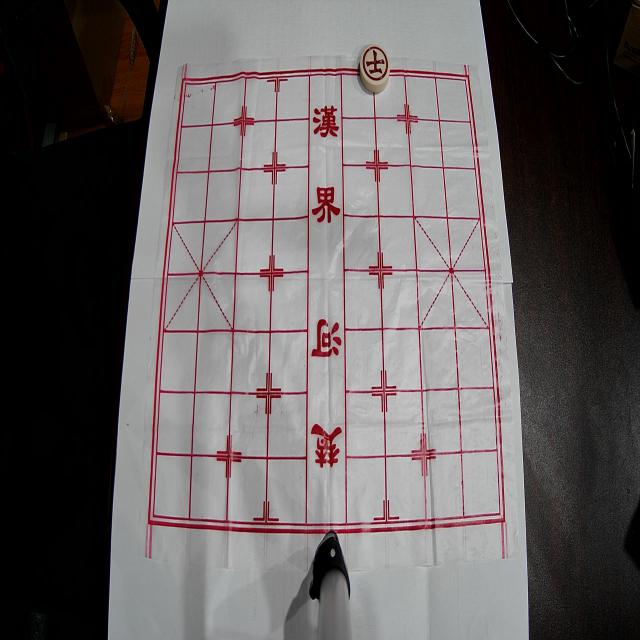red-guard: (360, 44, 390, 92)
